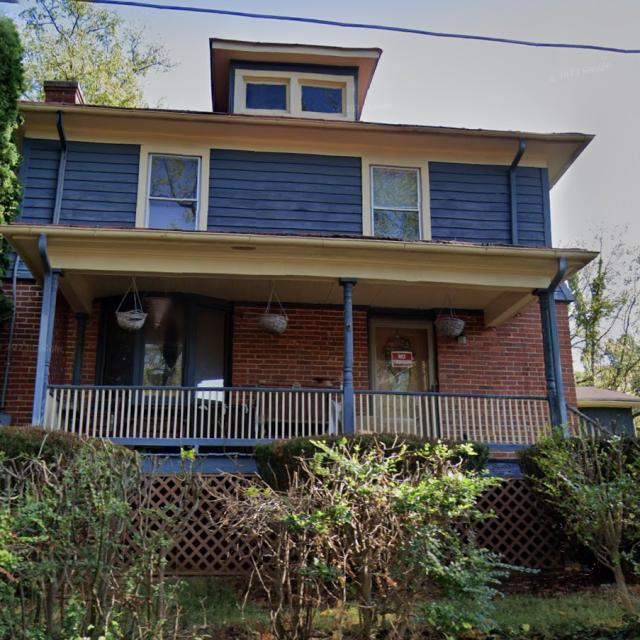House: (0, 37, 640, 574)
